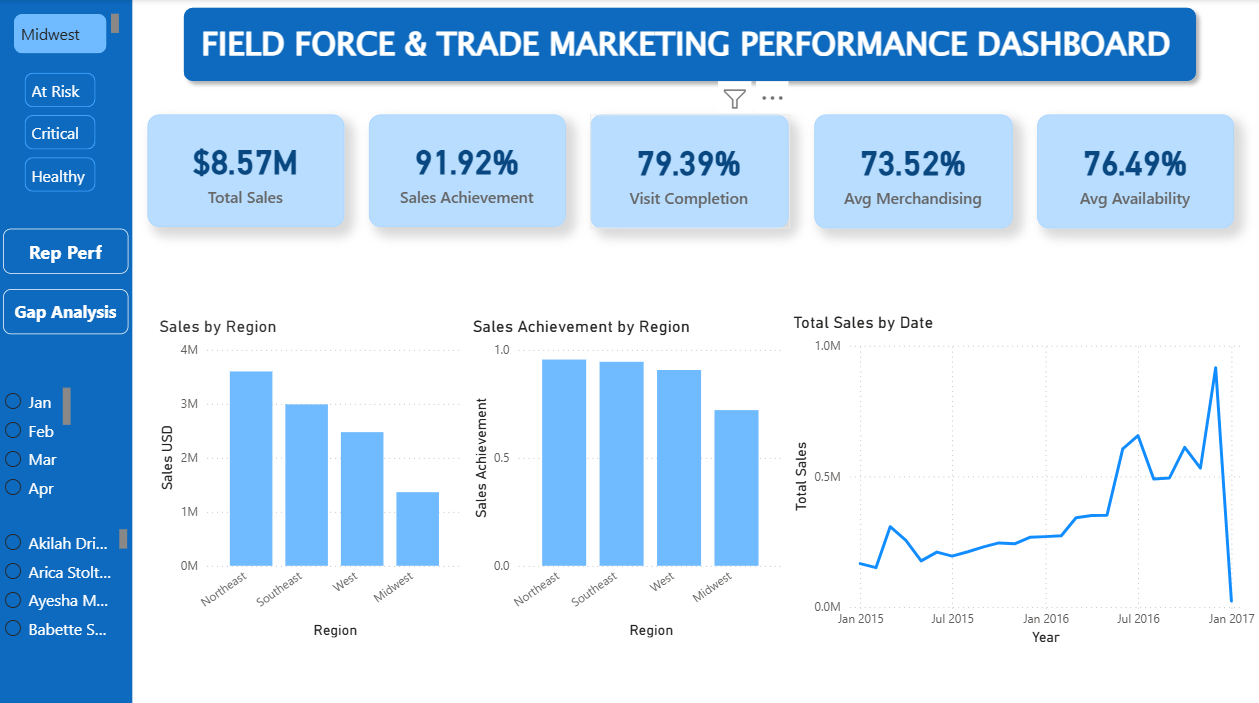

This screenshot's page, from the dashboard's own definition file:
{"tool":"powerbi","page":{"name":"Page 1","canvas":[1280,720],"ordinal":0},"visuals":[{"type":"shape","box":[178.8,0,1046.1,92.2],"z":0},{"type":"card","fields":{"Values":["tblCleanOrders.Total Sales"]},"box":[150.8,118,199.7,114.5],"z":1000},{"type":"card","fields":{"Values":["tblCleanOrders.Avg Availability"]},"box":[1054.4,118,199.7,115.9],"z":2000},{"type":"card","fields":{"Values":["tblCleanOrders.Avg Merchandising"]},"box":[827.8,118,201.1,115.9],"z":3000},{"type":"card","fields":{"Values":["tblCleanOrders.Visit Completion"]},"box":[601.2,118,201.1,115.9],"z":4000},{"type":"card","fields":{"Values":["tblCleanOrders.Sales Achievement"]},"box":[376,118,199.7,114.5],"z":5000},{"type":"clusteredColumnChart","title":"Sales by Region","fields":{"Category":["tblCleanOrders.Region_Name"],"Y":["Sum(tblCleanOrders.Sales_USD)"]},"box":[157.8,322.6,318.4,331],"z":6000},{"type":"clusteredColumnChart","title":"Sales Achievement by Region","fields":{"Y":["Avg(tblGapAnalysis.Sales_Achievement)"],"Category":["tblGapAnalysis.Region"]},"box":[476.2,322.6,325.4,331],"z":7000},{"type":"lineChart","title":"Total Sales by Date","fields":{"Category":["tblOperational.Month.Variation.Date Hierarchy.Year","tblOperational.Month.Variation.Date Hierarchy.Quarter","tblOperational.Month.Variation.Date Hierarchy.Month","tblOperational.Month.Variation.Date Hierarchy.Day"],"Y":["tblCleanOrders.Total Sales"]},"box":[801.7,318.4,479,342.2],"z":8000},{"type":"shape","box":[0,0,135.5,720.7],"z":9000},{"type":"actionButton","box":[4.2,233.2,127.1,46.1],"z":10000},{"type":"actionButton","box":[4.2,294.7,127.1,46.1],"z":11000},{"type":"listSlicer","fields":{"Values":["tblCleanOrders.Region_Name"]},"box":[9.8,9.8,117.3,50.3],"z":12000},{"type":"listSlicer","fields":{"Values":["tblCleanOrders.Month_Name"]},"box":[0,389.7,78.2,127.1],"z":12001},{"type":"advancedSlicerVisual","fields":{"Values":["tblGapAnalysis.Status"]},"box":[20.9,69.8,82.4,131.3],"z":12002},{"type":"listSlicer","fields":{"Values":["tblGapAnalysis.Rep_Name"]},"box":[0,533.5,135.5,127.1],"z":12003}]}

Visuals, with their boxes on the page's 1280x720 design canvas (x1, y1, x2, y2). These are canvas units, not pixel positions in the 1259x703 screenshot, which may show the page scaled, cropped or inside an application window:
shape: [179,0,1225,92]
card - tblCleanOrders.Total Sales: [151,118,350,232]
card - tblCleanOrders.Avg Availability: [1054,118,1254,234]
card - tblCleanOrders.Avg Merchandising: [828,118,1029,234]
card - tblCleanOrders.Visit Completion: [601,118,802,234]
card - tblCleanOrders.Sales Achievement: [376,118,576,232]
"Sales by Region" clusteredColumnChart: [158,323,476,654]
"Sales Achievement by Region" clusteredColumnChart: [476,323,802,654]
"Total Sales by Date" lineChart: [802,318,1281,661]
shape: [0,0,136,721]
actionButton: [4,233,131,279]
actionButton: [4,295,131,341]
listSlicer - tblCleanOrders.Region_Name: [10,10,127,60]
listSlicer - tblCleanOrders.Month_Name: [0,390,78,517]
advancedSlicerVisual - tblGapAnalysis.Status: [21,70,103,201]
listSlicer - tblGapAnalysis.Rep_Name: [0,534,136,661]
